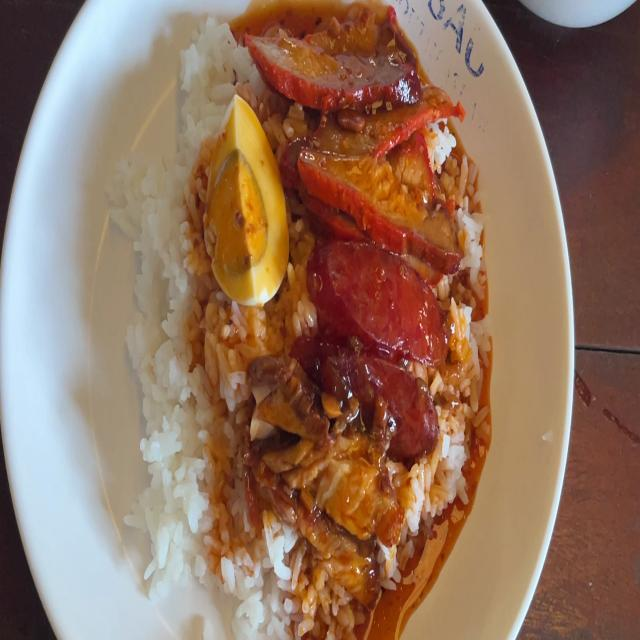red_pork_and_crispy_pork: (205, 105, 287, 303)
stir_fried_basil: (308, 245, 440, 433)
